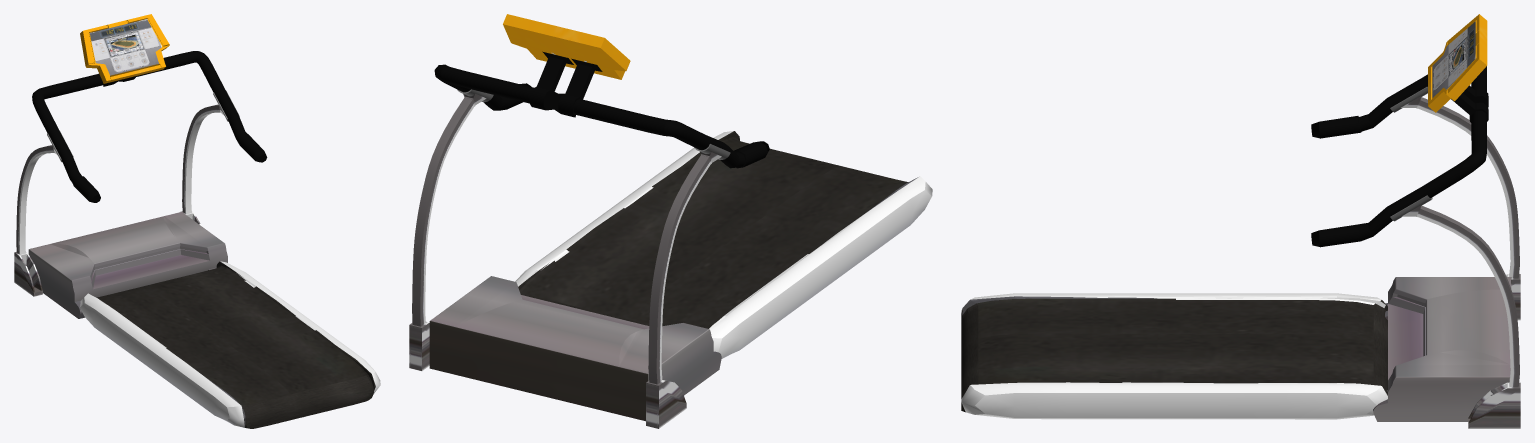
The model's file is caminadora.obj.
3 views of the same model, side by side, from view 1: azimuth 30°, elevation 25°; view 2: azimuth 150°, elevation 25°; view 3: azimuth 270°, elevation 25° (orthographic). The views are drawn at different scales.
Parts seen in each view (by area): view 1: barra:caminadora caminadora:polySurface4polySurface2Box001, caminadora:Conveyor_Belt_Head barra:caminadora, barra:caminadora caminadora:polySurface5, barra:caminadora caminadora:polySurface1, barra:caminadora caminadora:pCube3, barra:caminadora caminadora:pCube1group2, barra:caminadora caminadora:pCube1group1; view 2: barra:caminadora caminadora:polySurface4polySurface2Box001, caminadora:Conveyor_Belt_Head barra:caminadora, barra:caminadora caminadora:polySurface5, barra:caminadora caminadora:polySurface1, barra:caminadora caminadora:pCube1group2, barra:caminadora caminadora:pCube1group1, barra:caminadora caminadora:pCube3; view 3: barra:caminadora caminadora:polySurface4polySurface2Box001, barra:caminadora caminadora:polySurface5, caminadora:Conveyor_Belt_Head barra:caminadora, barra:caminadora caminadora:polySurface1, barra:caminadora caminadora:pCube1group1, barra:caminadora caminadora:pCube3, barra:caminadora caminadora:pCube1group2.
Part boxes in pixels (x1,y1,x2,y2): barra:caminadora caminadora:polySurface4polySurface2Box001: (96, 261, 375, 428); caminadora:Conveyor_Belt_Head barra:caminadora: (28, 212, 227, 318); barra:caminadora caminadora:polySurface5: (79, 261, 380, 427); barra:caminadora caminadora:polySurface1: (32, 51, 267, 202); barra:caminadora caminadora:pCube3: (80, 14, 169, 83); barra:caminadora caminadora:pCube1group2: (14, 145, 57, 296); barra:caminadora caminadora:pCube1group1: (180, 104, 223, 225); barra:caminadora caminadora:polySurface4polySurface2Box001: (518, 131, 908, 328); caminadora:Conveyor_Belt_Head barra:caminadora: (429, 276, 721, 421); barra:caminadora caminadora:polySurface5: (515, 131, 932, 359); barra:caminadora caminadora:polySurface1: (434, 51, 769, 168); barra:caminadora caminadora:pCube1group2: (646, 151, 721, 428); barra:caminadora caminadora:pCube1group1: (409, 93, 486, 370); barra:caminadora caminadora:pCube3: (503, 14, 630, 79); barra:caminadora caminadora:polySurface4polySurface2Box001: (961, 298, 1387, 412); barra:caminadora caminadora:polySurface5: (961, 293, 1387, 419); caminadora:Conveyor_Belt_Head barra:caminadora: (1373, 277, 1511, 421); barra:caminadora caminadora:polySurface1: (1311, 66, 1488, 247); barra:caminadora caminadora:pCube1group1: (1402, 205, 1520, 428); barra:caminadora caminadora:pCube3: (1428, 14, 1487, 112); barra:caminadora caminadora:pCube1group2: (1401, 96, 1520, 320).
Bounding box in the file's own units: 6.83 × 9.17 × 13.78.
5 materials, 4 textured.
